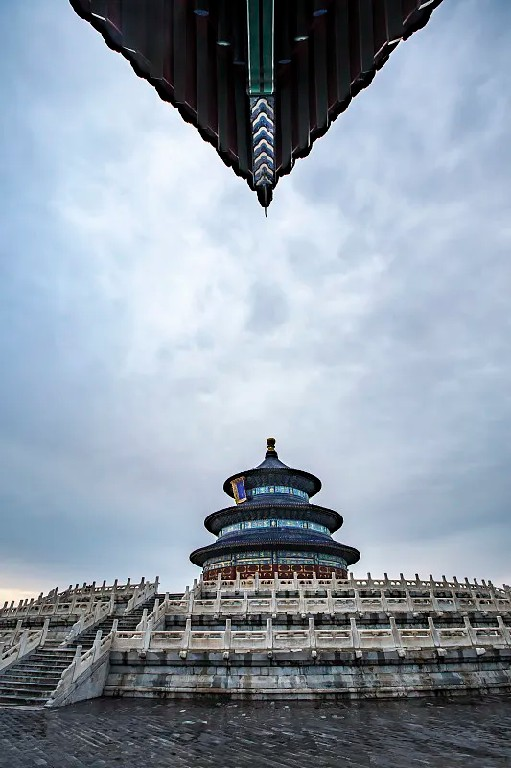Heaven: (189, 436, 361, 581)
